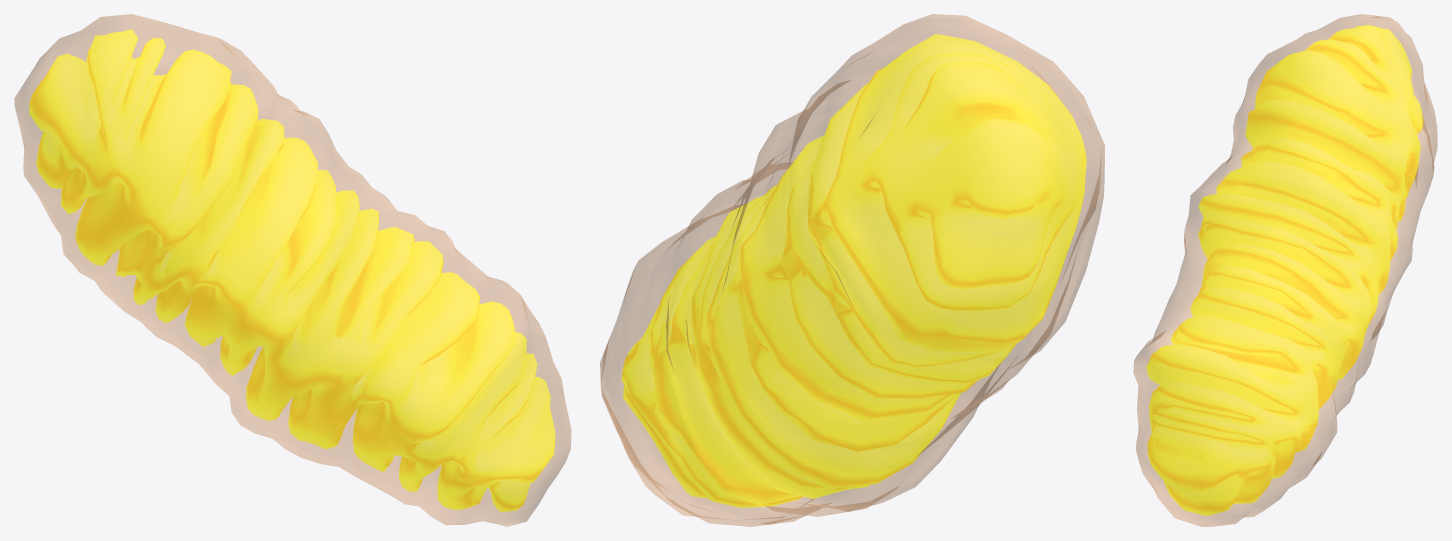
File: mitochondria_closed.fbx
3 views of the same model, side by side, from view 1: azimuth 30°, elevation 25°; view 2: azimuth 150°, elevation 25°; view 3: azimuth 270°, elevation 25° (orthographic). The views are drawn at different scales.
Parts seen in each view (by area): view 1: Mitochondria_1; view 2: Mitochondria_1; view 3: Mitochondria_1.
Boxes of the visible parts, x1=… form: Mitochondria_1: x1=14, y1=14, x2=571, y2=526; Mitochondria_1: x1=600, y1=14, x2=1104, y2=526; Mitochondria_1: x1=1133, y1=14, x2=1437, y2=526.
Bounding box in the file's own units: 373 × 403 × 282.
